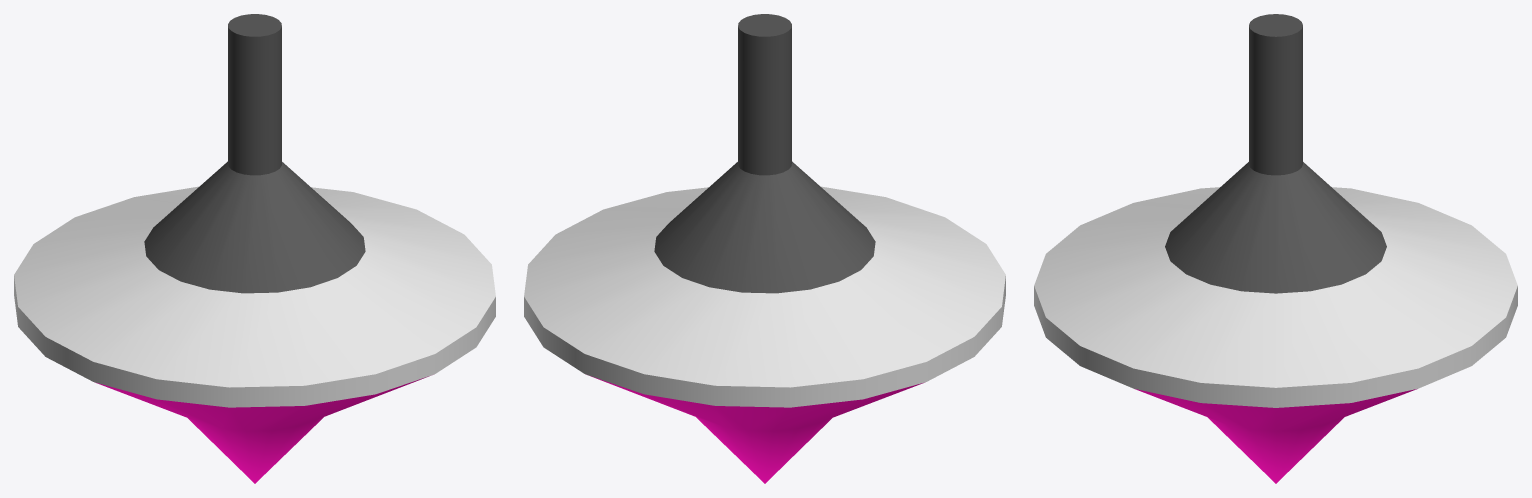
Rendered from Roundabout.fbx.
The picture shows the model from 3 angles, left to right: view 1: azimuth 30°, elevation 25°; view 2: azimuth 150°, elevation 25°; view 3: azimuth 270°, elevation 25°; orthographic projection.
Visible parts, largest first — view 1: Roundabout; view 2: Roundabout; view 3: Roundabout.
Part boxes in pixels (left/top/right/bottom): Roundabout: left=14, top=14, right=495, bottom=483; Roundabout: left=524, top=14, right=1005, bottom=483; Roundabout: left=1034, top=14, right=1517, bottom=483.
Bounding box in the file's own units: 1.89 × 1.97 × 1.89.
